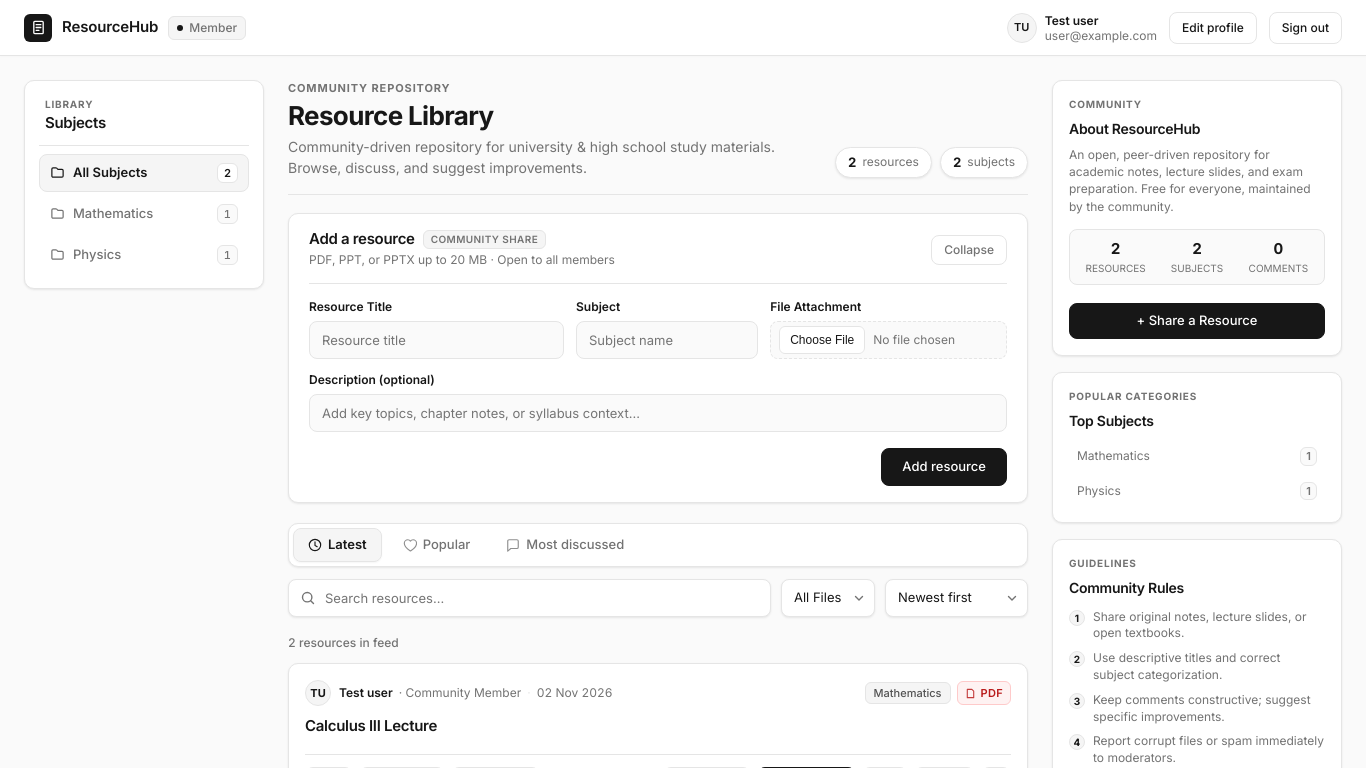
ResourceHub Universal Community Platform UI & Access Control › subject chips filter resources when tapped
The width and height of the screenshot is (1366, 768).
Expected: the heading "Calculus III Lecture" is shown, [305, 716, 437, 735]
Note: Subject chip click for "Mathematics"
Click the 1st button "Mathematics 1": [144, 214] box [39, 195, 249, 233]
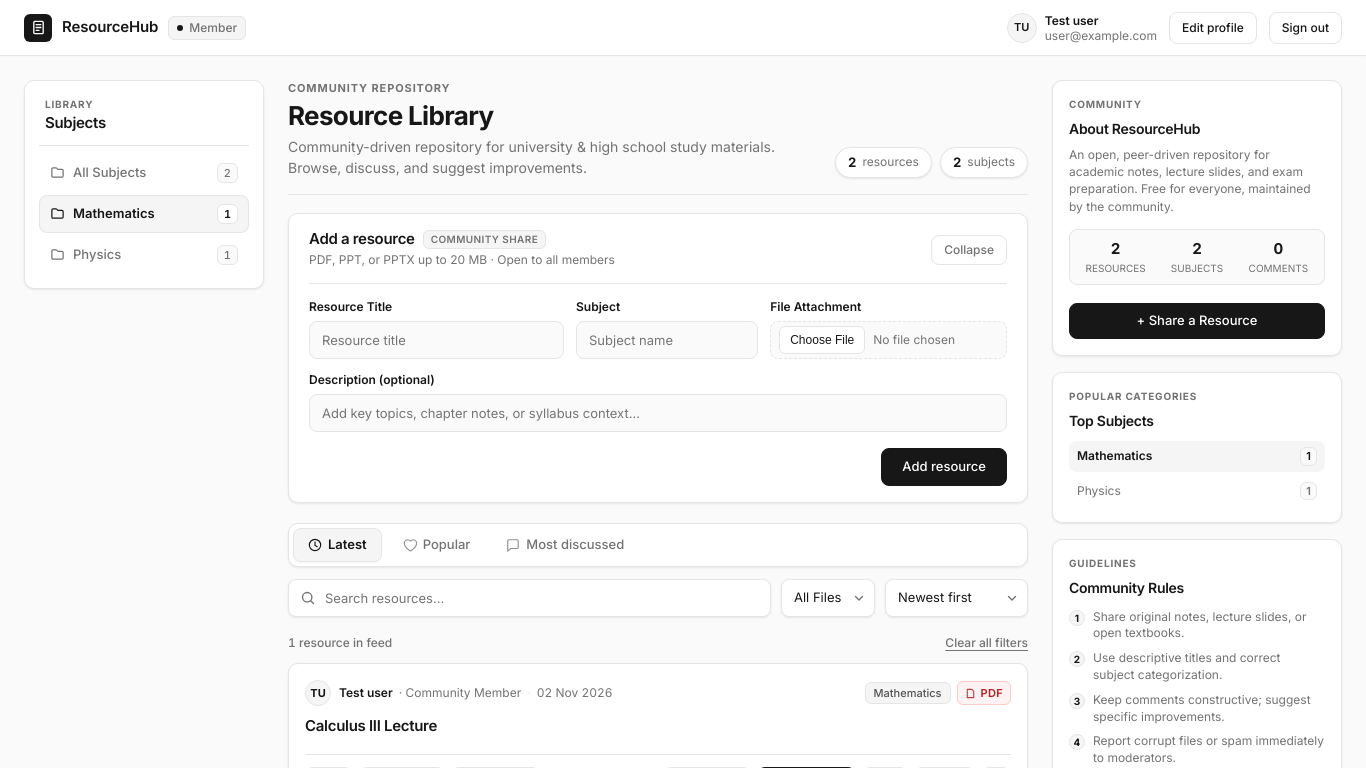
Expected: the heading "Calculus III Lecture" is shown, [305, 716, 437, 735]
Expected: the text "Quantum Physics Notes" is not shown
Note: Subject chip click for "All Subjects"
Click the button "All Subjects 2": [144, 173] box [39, 154, 249, 192]
(page scrolled)
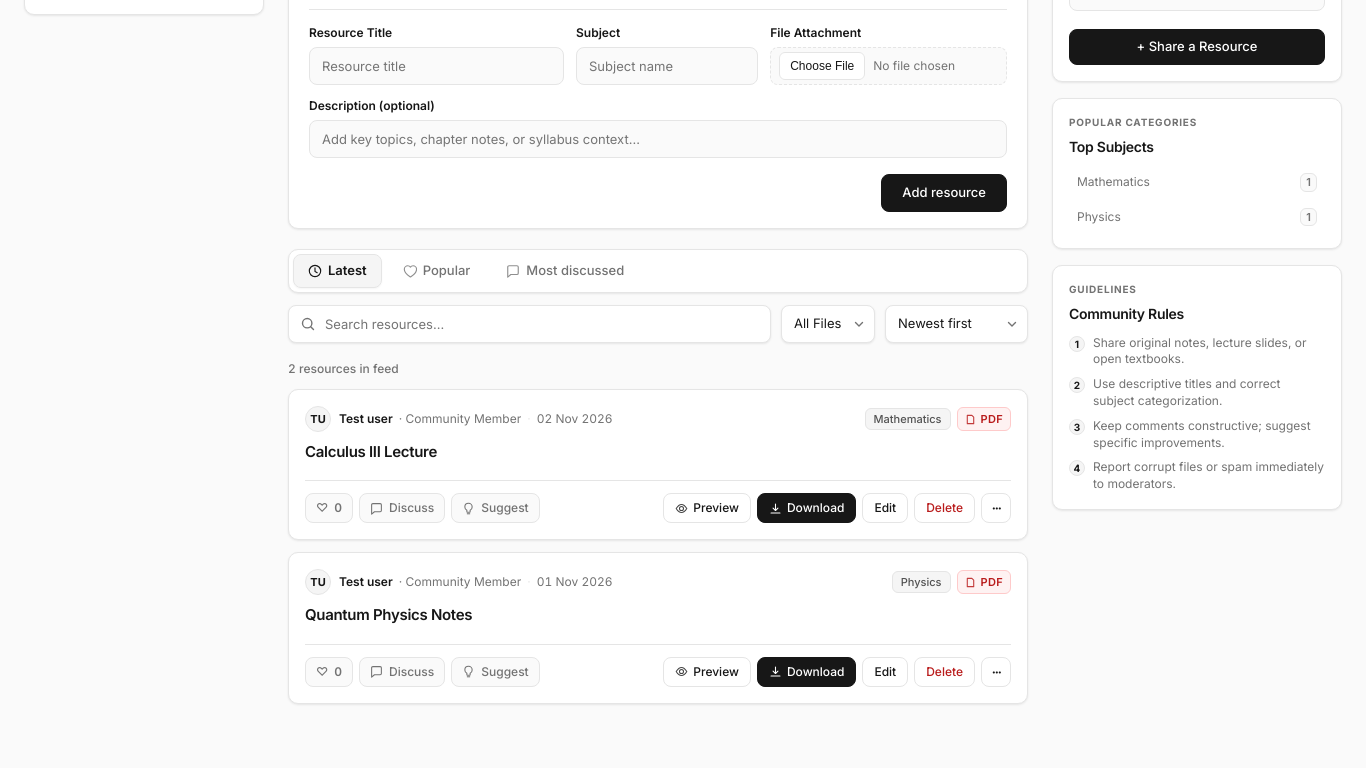
Expected: the heading "Calculus III Lecture" is shown, [305, 442, 437, 461]
Expected: the heading "Quantum Physics Notes" is shown, [305, 605, 472, 624]
